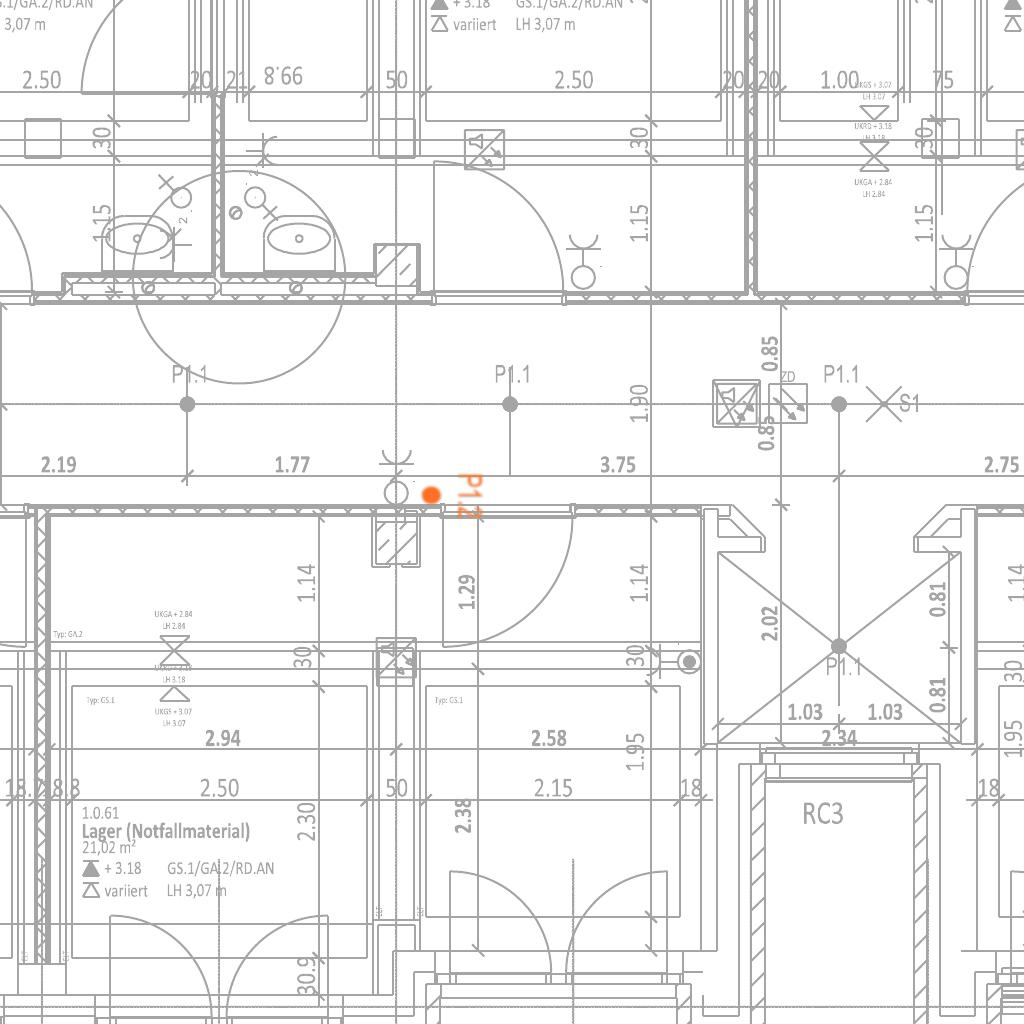Downlight_LED_Einbauleuchten_Flur: (420, 473, 484, 519)
